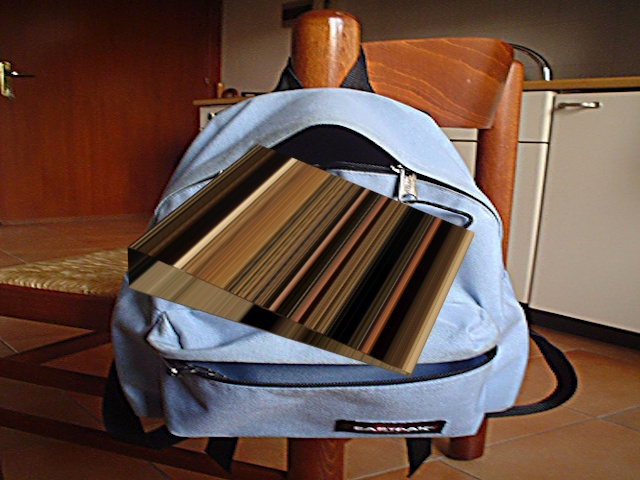ring_binder: (121, 137, 481, 385)
